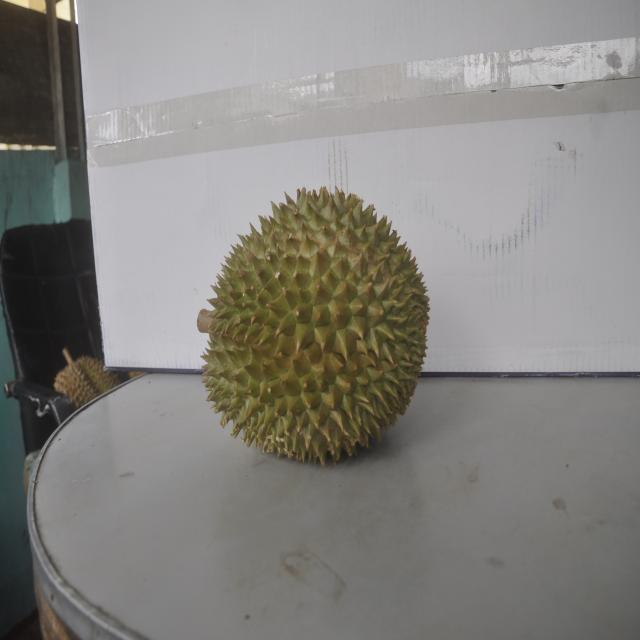mature: (202, 181, 431, 468), (54, 352, 123, 410)
